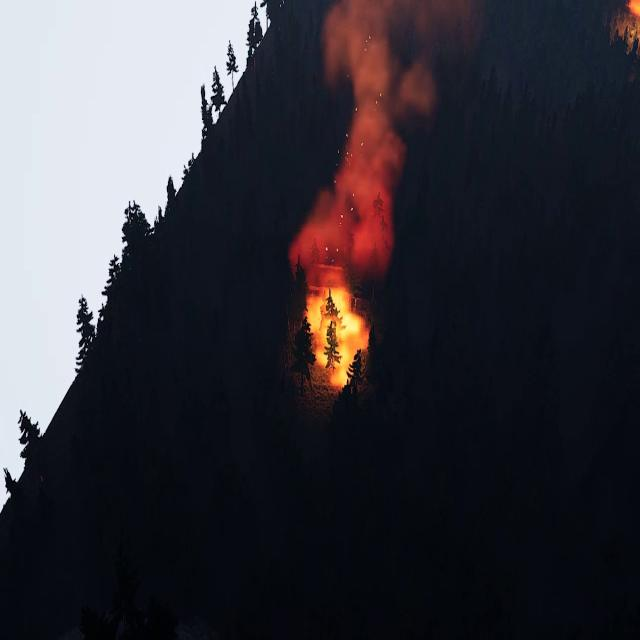fire: (306, 268, 368, 383), (628, 0, 640, 19)
smoke: (293, 4, 488, 281)
